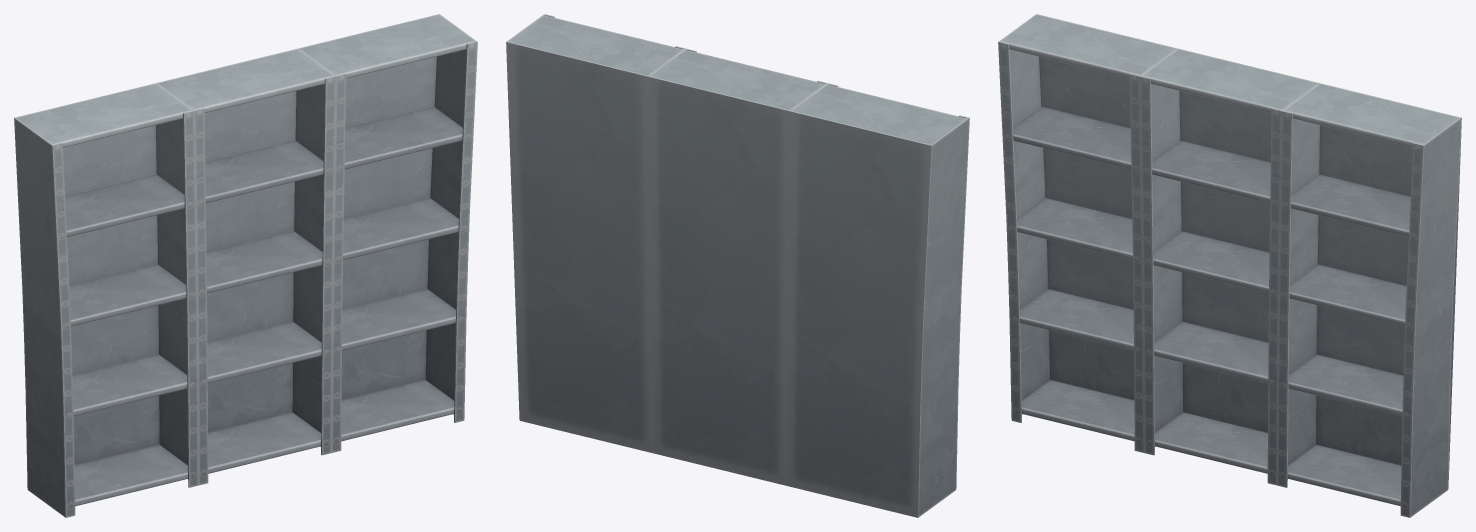
The model's file is BankMoneyShelves01_2.FBX.
The picture shows the model from 3 angles, left to right: view 1: azimuth 30°, elevation 25°; view 2: azimuth 150°, elevation 25°; view 3: azimuth 330°, elevation 25°; orthographic projection.
Parts seen in each view (by area): view 1: BankMoneyShelves01_2; view 2: BankMoneyShelves01_2; view 3: BankMoneyShelves01_2.
Part boxes in pixels (box(x1,y1,x2,y2)): BankMoneyShelves01_2: box(14, 14, 477, 517); BankMoneyShelves01_2: box(506, 14, 969, 517); BankMoneyShelves01_2: box(998, 14, 1461, 517).
Size of what is drawn, in the model's own units: 3.2 by 2.7 by 0.5.
